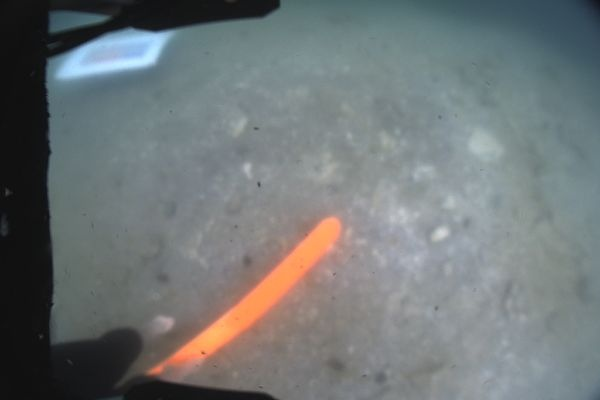bin: (54, 31, 172, 80)
bin_bleue: (123, 44, 144, 56)
bin_rouge: (91, 49, 123, 61)
path: (146, 215, 342, 379)
